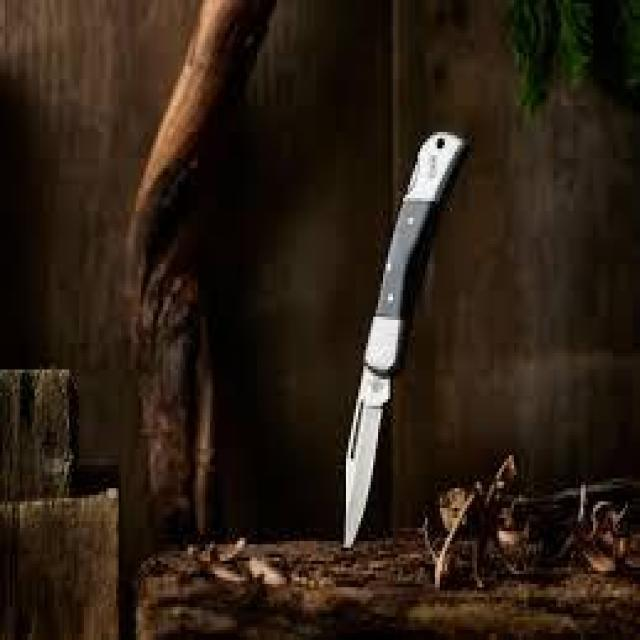Knife: (323, 114, 472, 556)
